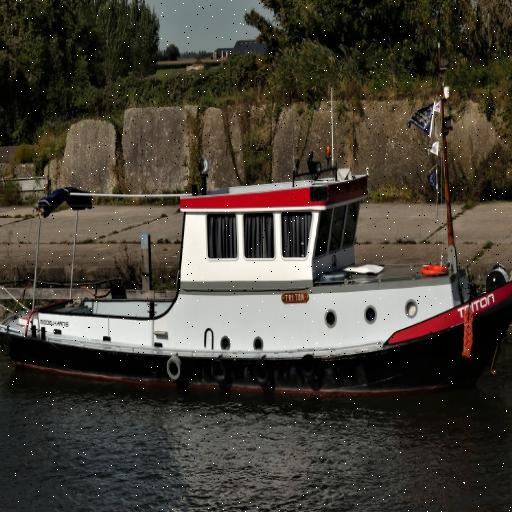tugboat: (1, 162, 512, 411)
